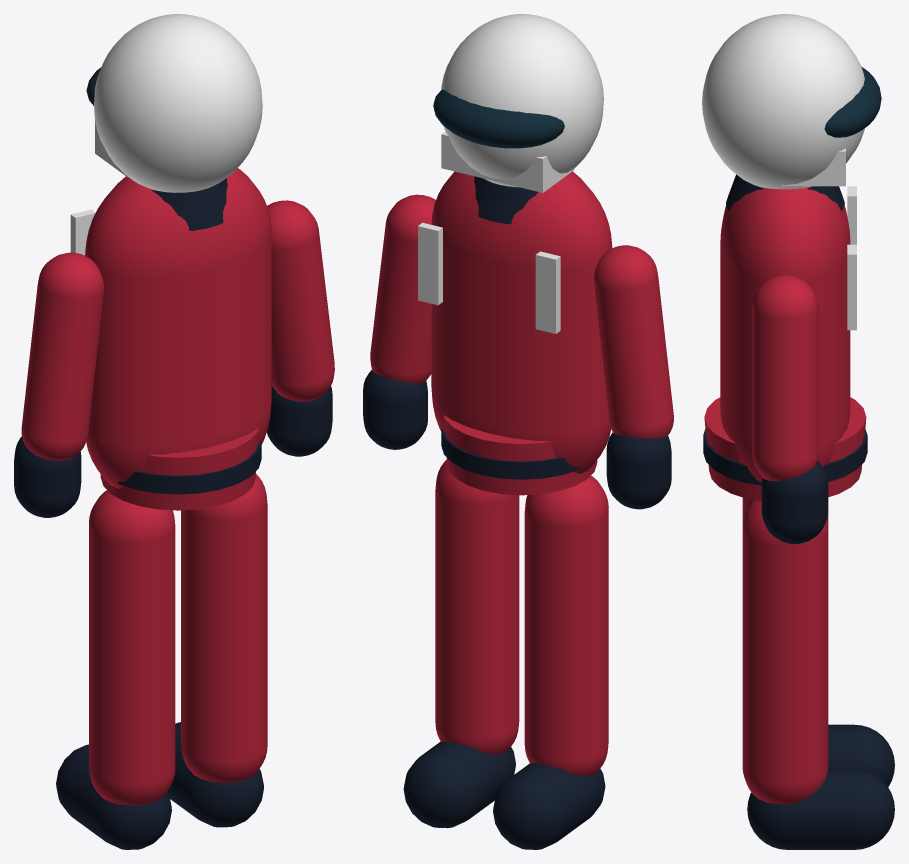
The model's file is helmeted-study.glb.
The picture shows the model from 3 angles, left to right: view 1: azimuth 30°, elevation 25°; view 2: azimuth 150°, elevation 25°; view 3: azimuth 270°, elevation 25°; orthographic projection. The views are drawn at different scales.
Parts seen in each view (by area): view 1: Suit leg (×2), Racing suit torso, Suit arm (×2), Helmet, Racing boot (×2), Glove (×2), Waist, Belt, Collar, Suit shoulder stripe; view 2: Suit leg (×2), Racing suit torso, Suit arm (×2), Helmet, Racing boot (×2), Glove (×2), Waist, Dark reflective visor, Suit shoulder stripe (×2), Belt, Chin guard, Collar; view 3: Suit leg, Racing suit torso, Helmet, Suit arm, Racing boot (×2), Glove, Waist, Dark reflective visor, Belt, Suit shoulder stripe (×2), Collar, Chin guard.
Part boxes in pixels (x1,y1,x2,y2): Suit leg (×2): (89,474,267,805); Racing suit torso: (85,168,271,488); Suit arm (×2): (21,200,334,461); Helmet: (94,14,262,192); Racing boot (×2): (56,722,263,849); Glove (×2): (14,385,332,517); Waist: (100,428,258,510); Belt: (117,441,261,494); Collar: (152,178,227,230); Suit shoulder stripe: (70,209,95,255); Suit leg (×2): (435,460,608,776); Racing suit torso: (431,171,612,473); Suit arm (×2): (370,194,673,438); Helmet: (441,14,603,187); Racing boot (×2): (403,741,605,849); Glove (×2): (363,370,671,509); Waist: (443,415,597,495); Dark reflective visor: (433,89,564,148); Suit shoulder stripe (×2): (418,222,560,333); Belt: (441,428,580,479); Chin guard: (441,131,574,192); Collar: (474,176,538,224); Suit leg: (742,500,828,804); Racing suit torso: (720,187,850,486); Helmet: (702,14,864,189); Suit arm: (752,275,818,481); Racing boot (×2): (747,724,894,849); Glove: (761,461,828,544); Waist: (704,397,866,501); Dark reflective visor: (824,66,881,137); Belt: (703,429,867,485); Suit shoulder stripe (×2): (847,186,856,330); Collar: (726,174,844,211); Chin guard: (781,148,845,186).
Size of the model in its own units: 1.48 by 3.72 by 0.81.
